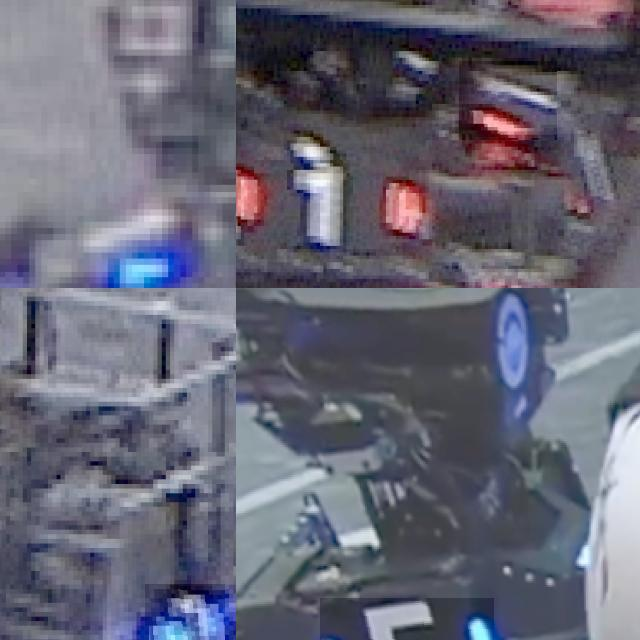B2: (145, 584, 225, 640)
B5: (320, 598, 493, 640)
R1: (236, 151, 420, 244), (549, 110, 640, 219), (459, 61, 557, 140)
